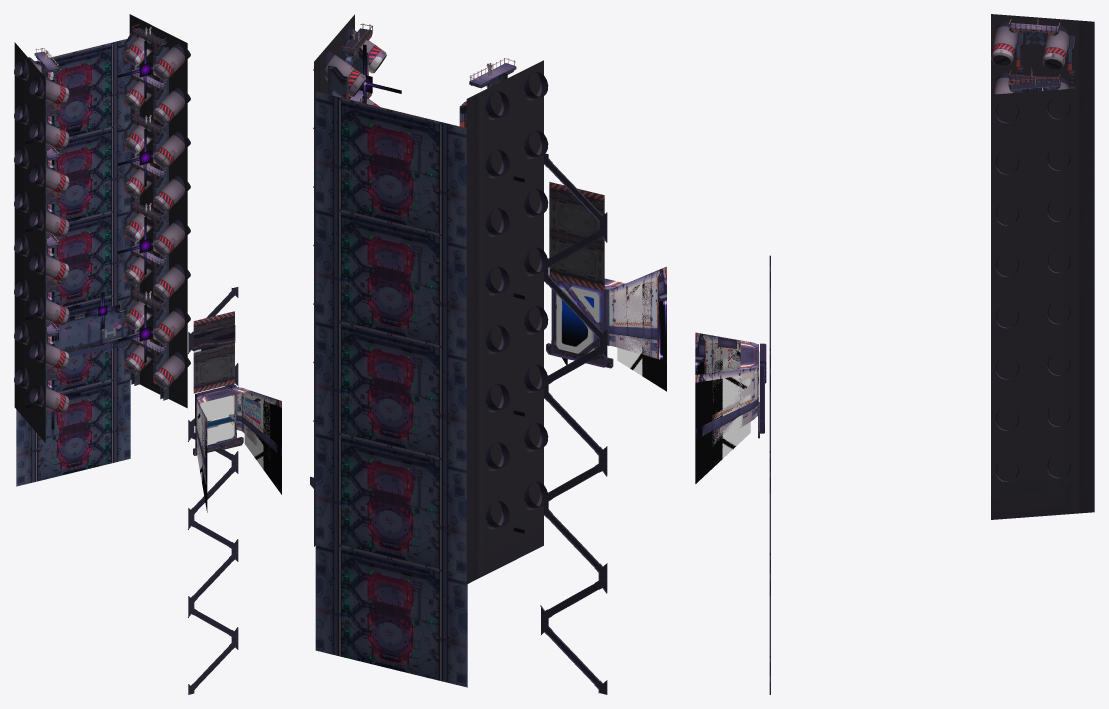
File: StartLoading_Model_27_31_2966.fbx
The picture shows the model from 3 angles, left to right: view 1: azimuth 30°, elevation 25°; view 2: azimuth 150°, elevation 25°; view 3: azimuth 270°, elevation 25°; orthographic projection. The views are drawn at different scales.
Visible parts, largest first — view 1: StartLoading_BG01, StartLoading_BG02_B, Floor, Pillar, Elevator 1, StartLoading_BG02_F, Shadow_Right, Door, OutsideDoor_Down, Shadow_Left; view 2: StartLoading_BG02_B, StartLoading_BG01, Pillar, Floor, Elevator 1, OutsideDoor_Down, Shadow_Left, OutsideDoor_Up; view 3: StartLoading_BG01, Elevator 1, Shadow_Right, Pillar.
Part boxes in pixels (x1,y1,x2,y2): StartLoading_BG01: (14,14,190,442); StartLoading_BG02_B: (16,39,130,486); Floor: (193,311,235,393); Pillar: (188,287,238,694); Elevator 1: (196,387,281,489); StartLoading_BG02_F: (53,307,131,352); Shadow_Right: (244,393,281,494); Door: (196,386,238,445); OutsideDoor_Down: (193,384,243,455); Shadow_Left: (197,405,207,512); StartLoading_BG02_B: (315,91,467,687); StartLoading_BG01: (313,14,548,584); Pillar: (540,153,607,694); Floor: (549,182,604,291); Elevator 1: (604,266,666,361); OutsideDoor_Down: (546,278,613,368); Shadow_Left: (617,282,666,391); OutsideDoor_Up: (559,280,606,332); StartLoading_BG01: (991,14,1094,519); Elevator 1: (695,332,758,446); Shadow_Right: (695,375,750,483); Pillar: (769,255,770,694).
Size of the model in its own units: 12.11 by 41.67 by 22.86.
